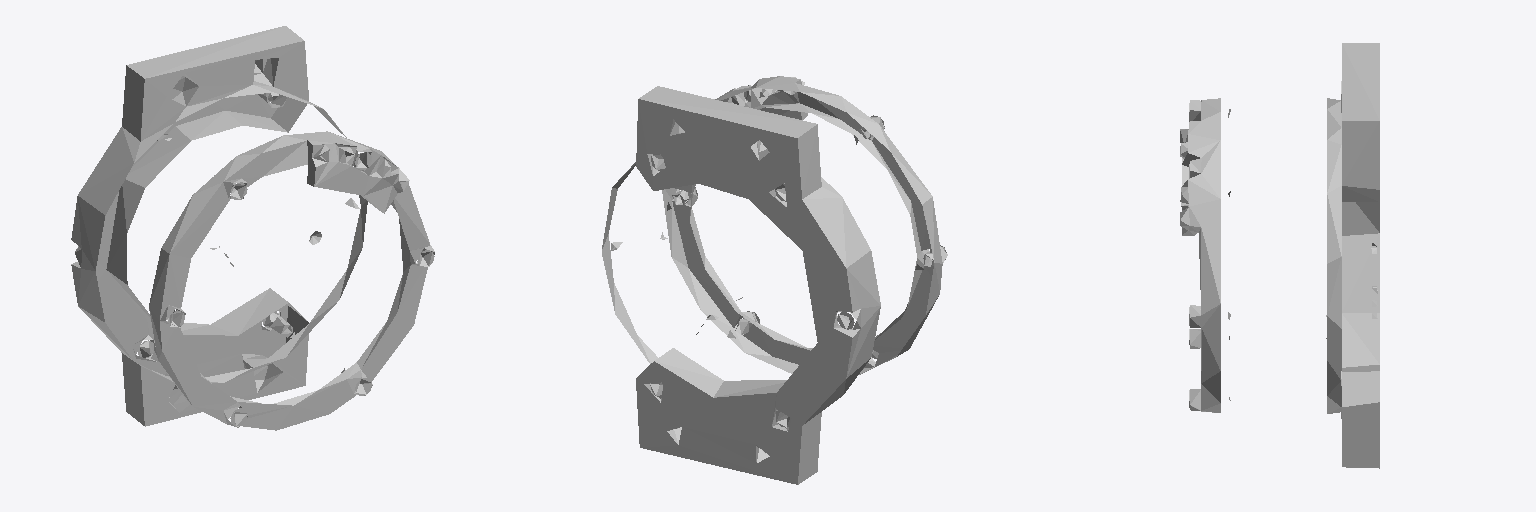
3 renders of one model, left to right at view 1: azimuth 30°, elevation 25°; view 2: azimuth 150°, elevation 25°; view 3: azimuth 270°, elevation 25°, orthographic.
Parts seen in each view (by area): view 1: link0_0; view 2: link0_0; view 3: link0_0.
Part boxes in pixels (bbox=[...]): link0_0: bbox=[71, 26, 434, 430]; link0_0: bbox=[602, 76, 947, 484]; link0_0: bbox=[1180, 43, 1379, 468].
Size of the model in its own units: 98.82 by 120 by 62.53.